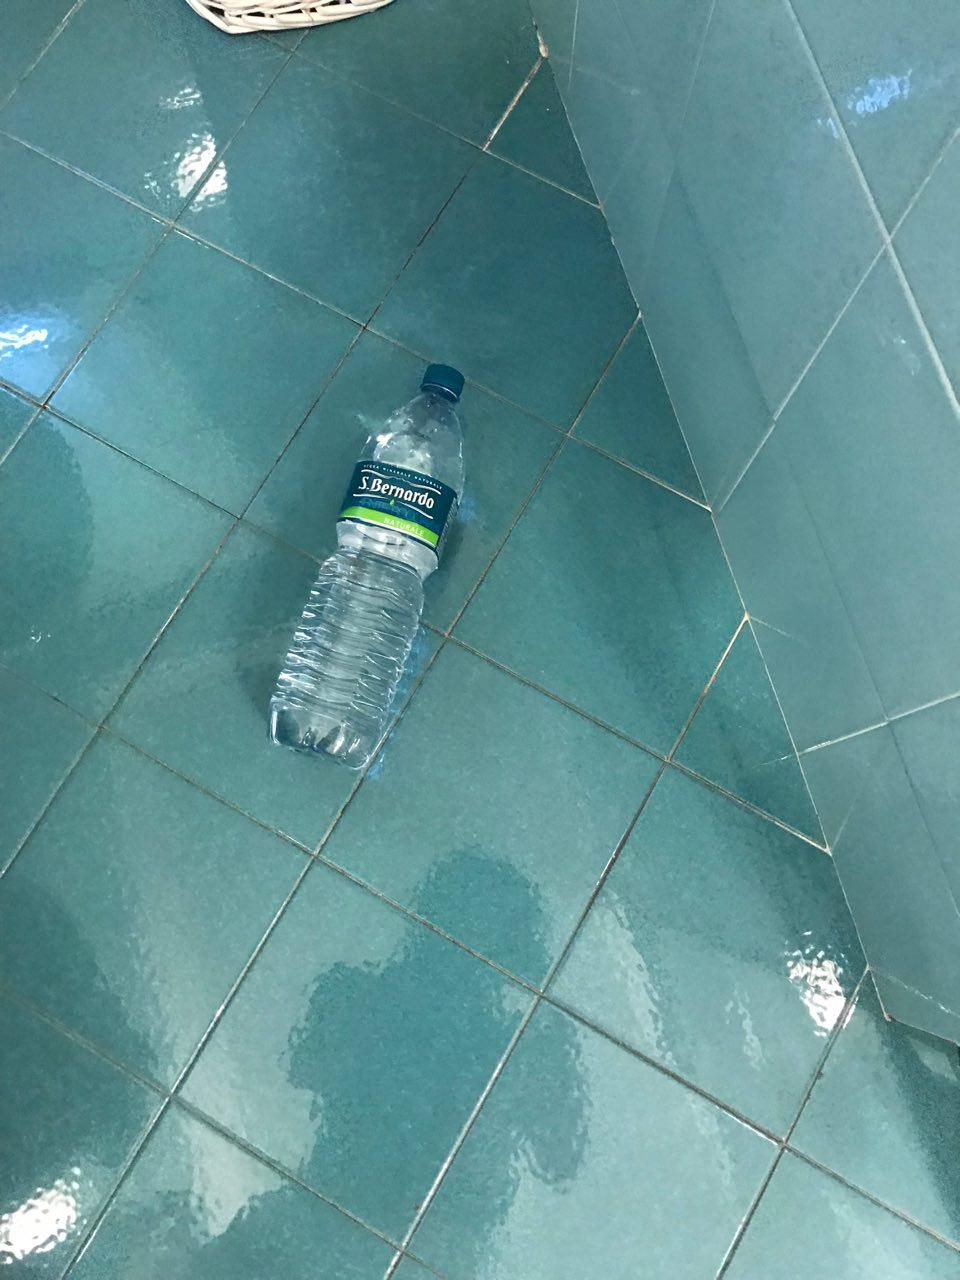san_bernardo: (267, 363, 465, 771)
